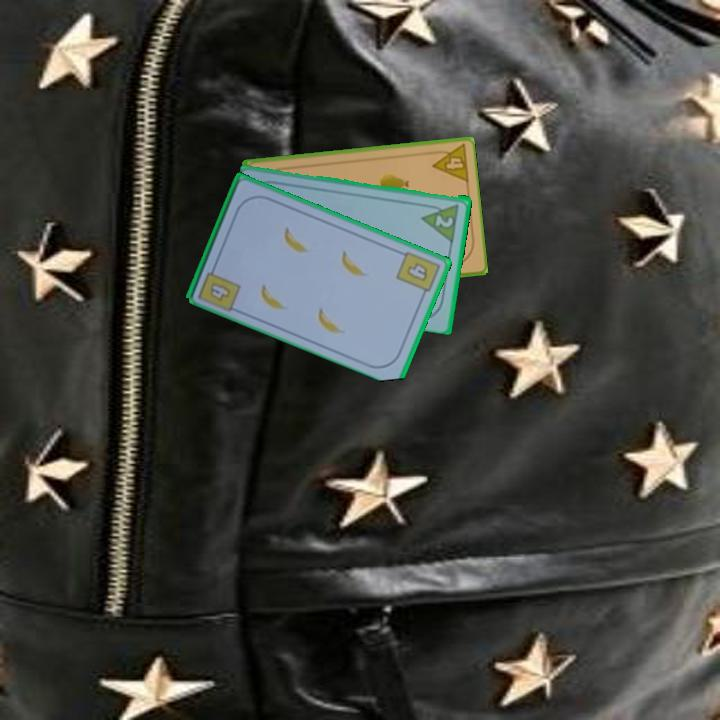2p: (419, 200, 462, 243)
4b: (393, 248, 443, 300), (207, 278, 234, 304)
4p: (426, 141, 471, 185)
